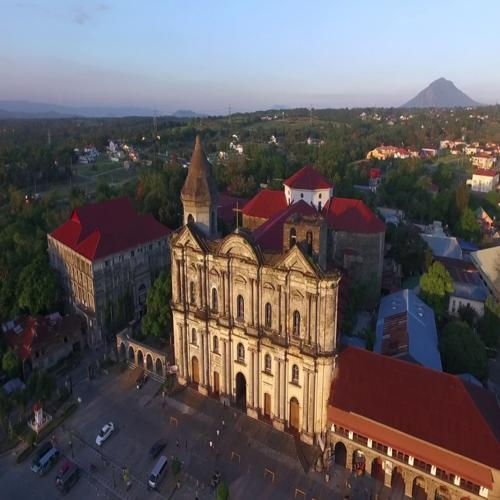Taal Basilica Church: (150, 118, 352, 453)
